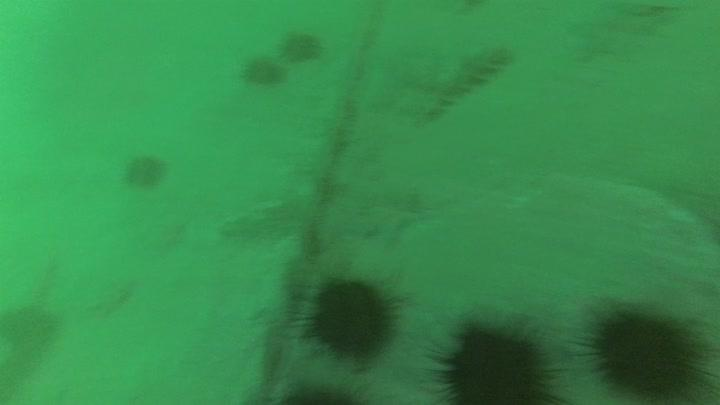urchin: (580, 296, 704, 405), (435, 313, 550, 405), (298, 269, 395, 364), (242, 52, 286, 96), (118, 148, 167, 186), (279, 30, 321, 62)
